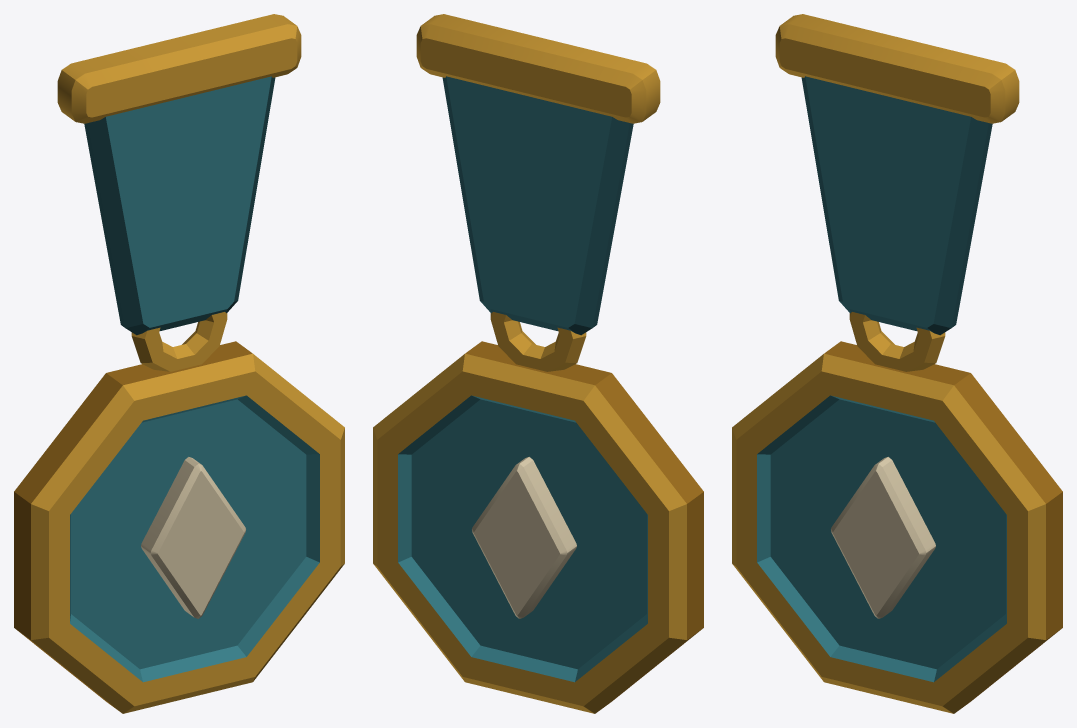
File: Medal_28.glb
3 views of the same model, side by side, from view 1: azimuth 30°, elevation 25°; view 2: azimuth 150°, elevation 25°; view 3: azimuth 330°, elevation 25° (orthographic).
Parts seen in each view (by area): view 1: Medal_28; view 2: Medal_28; view 3: Medal_28.
Boxes of the visible parts, <box> form: Medal_28: <box>14,14,344,713</box>; Medal_28: <box>373,14,703,713</box>; Medal_28: <box>732,14,1062,713</box>.
Size of the model in its own units: 1.18 by 2.32 by 0.28.
